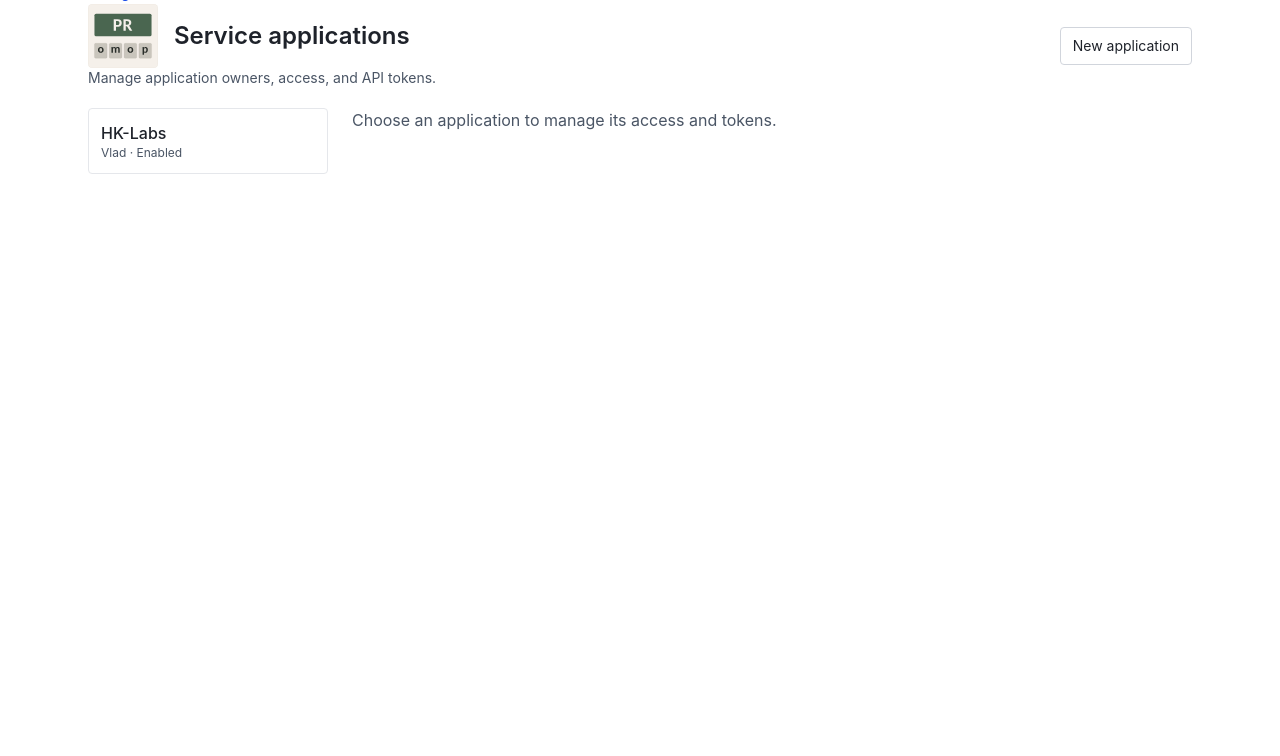
Test case: Service applications › shows a scope refusal from the cutover flow, not a generic message
The width and height of the screenshot is (1280, 756).
Click the button "HK-Labs Vlad · Enabled" at (208, 141), box [88,108,328,174]
(page scrolled)
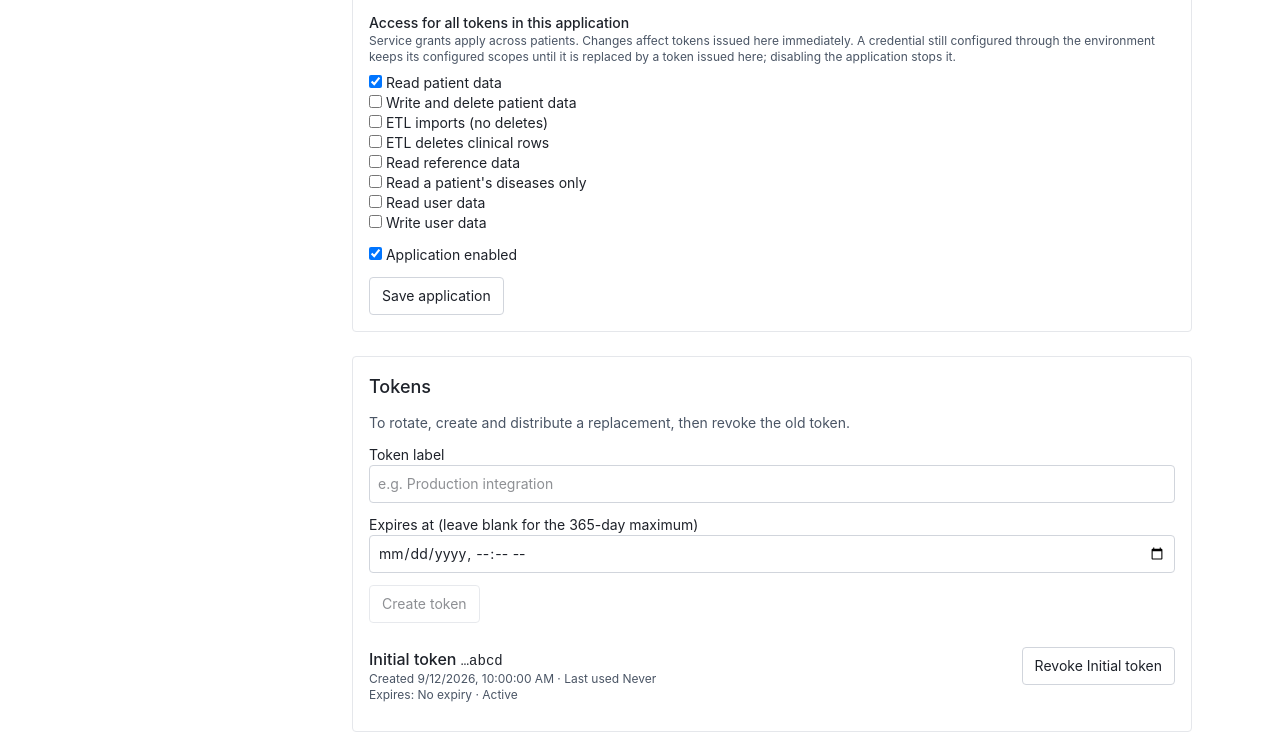
Type "Cutover" into the field labelled "Token label" at (772, 484), box [369,465,1175,503]
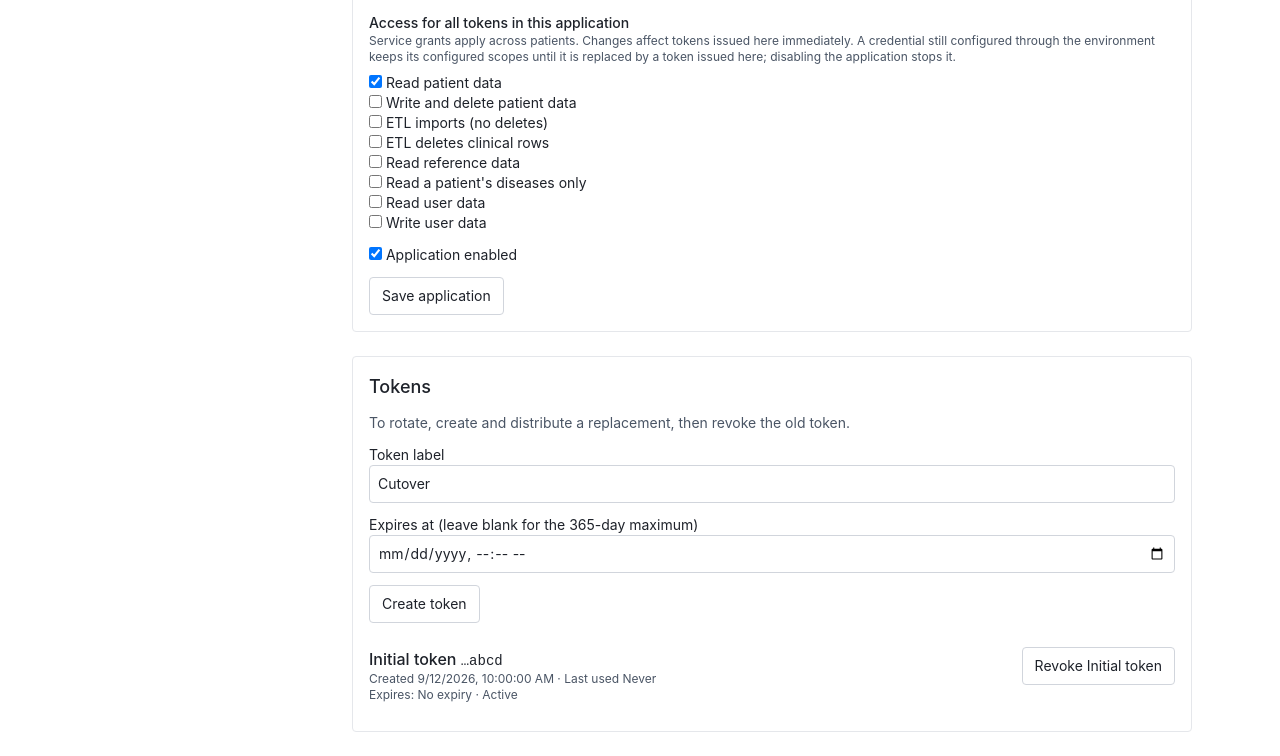
Click the button "Create token" at (424, 604), box [369,585,480,623]
(page scrolled)
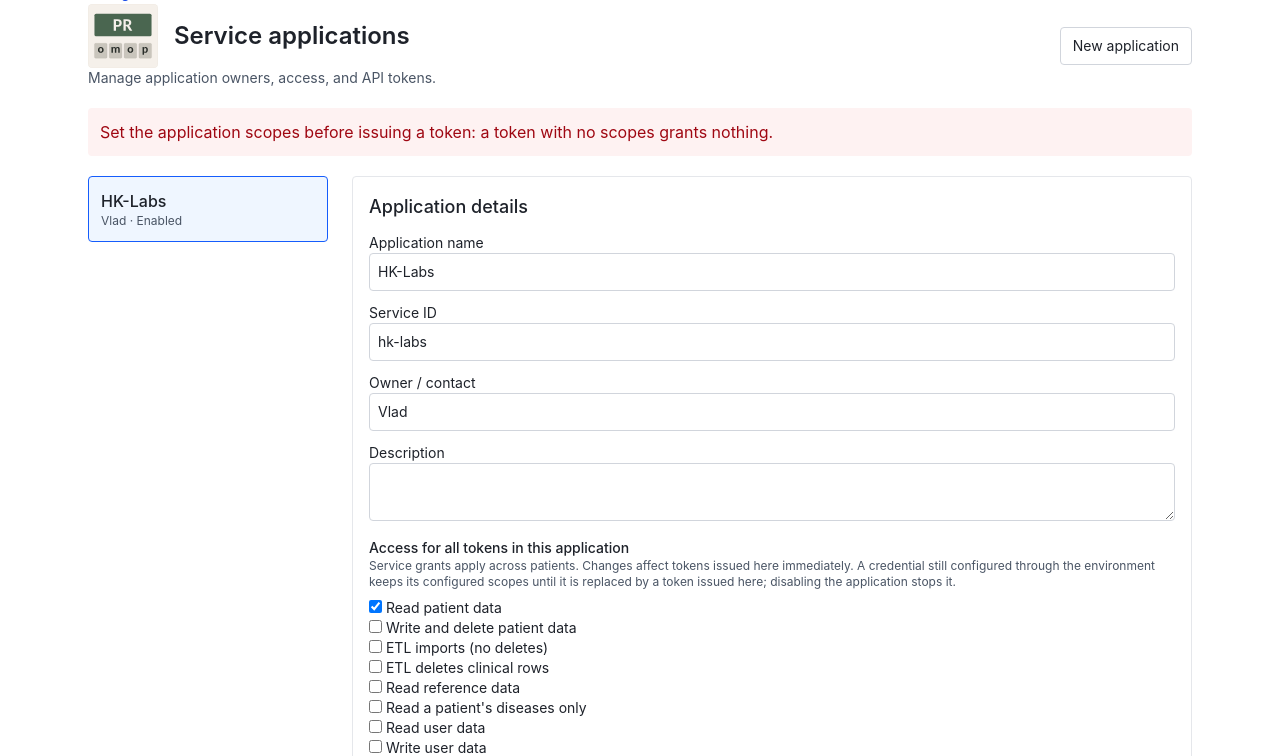
Now the text "Set the application scopes before issuing a token" is shown, box [100,122,773,142]
